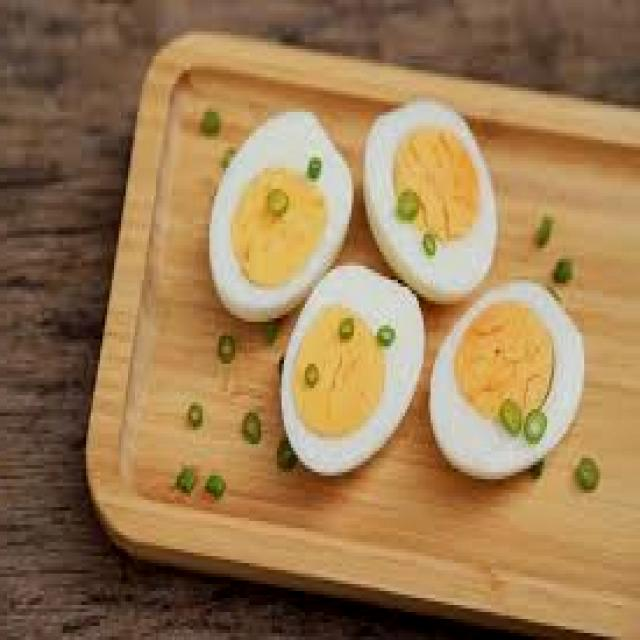telur rebus: (416, 289, 606, 483), (191, 107, 362, 316), (265, 276, 427, 487), (364, 86, 492, 306)
